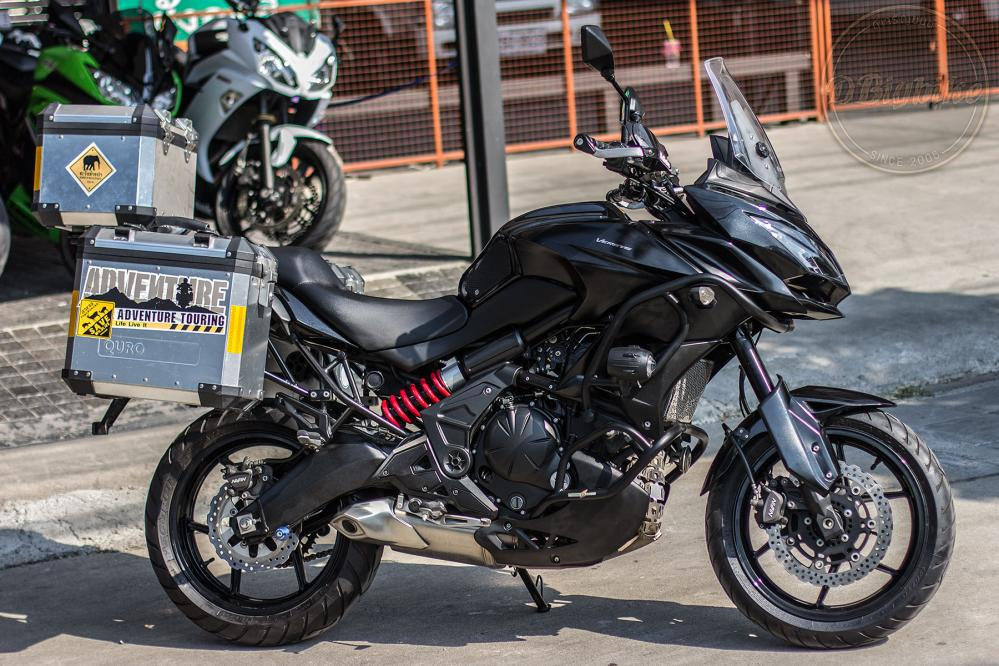motorcycle: (106, 121, 955, 640)
